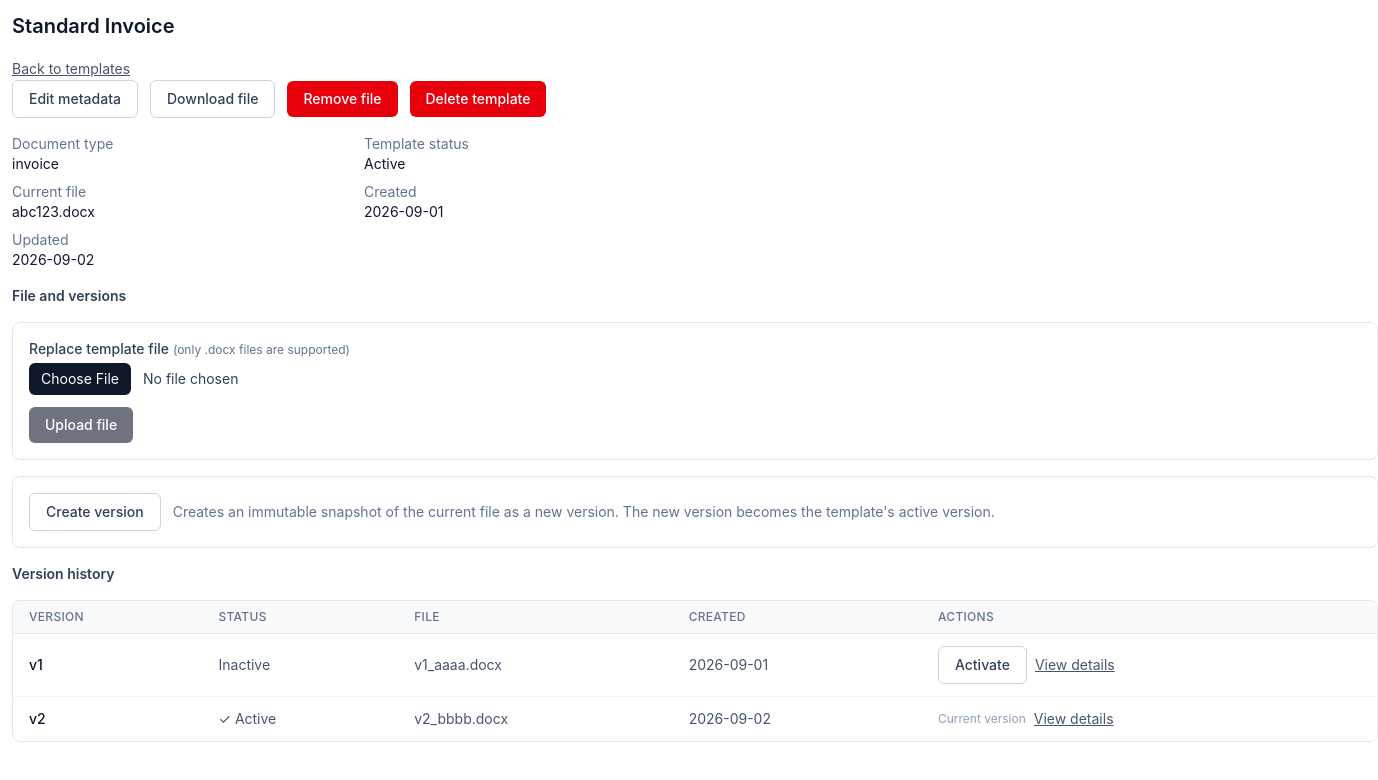
it: TemplateDetailPage › shows a backend error when a version cannot be created
The width and height of the screenshot is (1378, 780).
Check: the heading "Standard Invoice" is shown, box [12,14,175,38]
Click the button "Create version" at (95, 512), box [29,493,161,531]
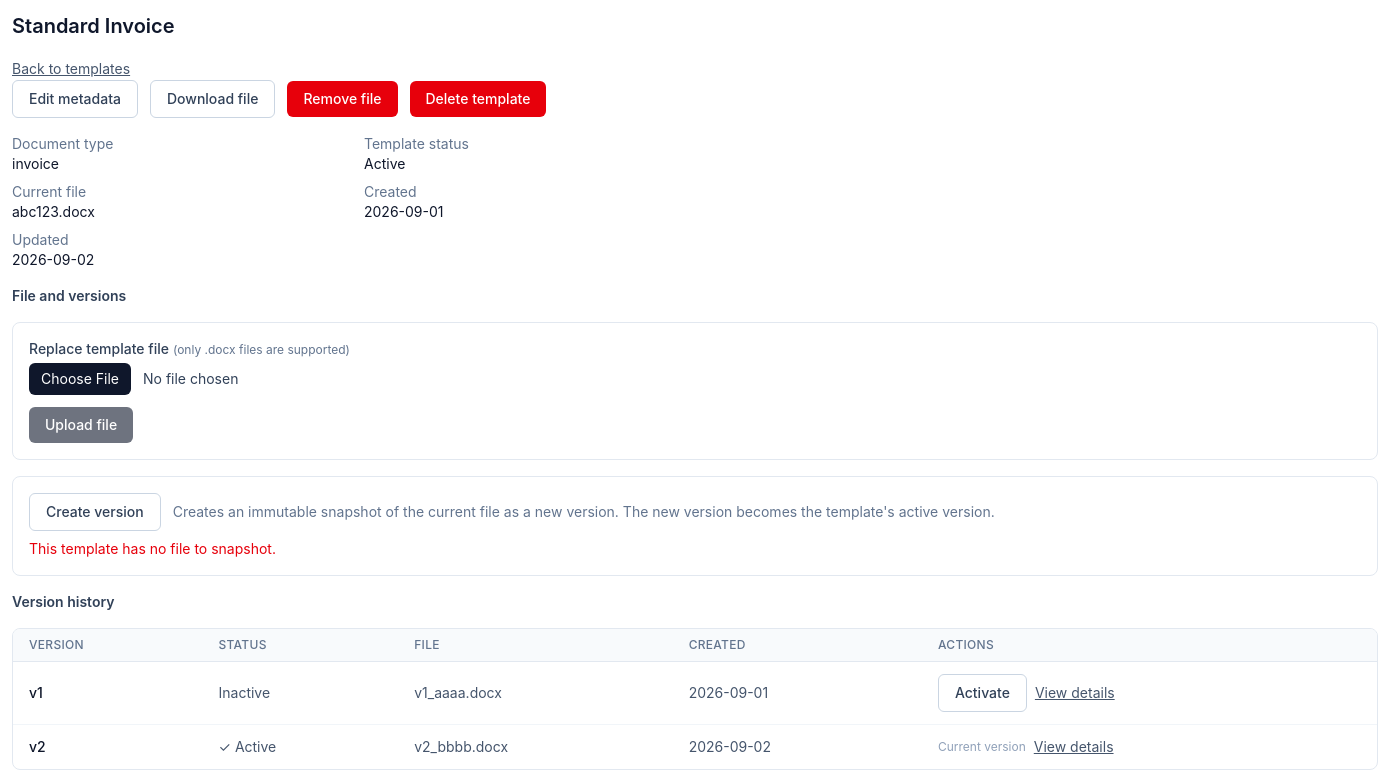
Check: the message shows "no file to snapshot", box [29,540,276,557]
